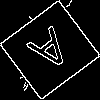A: (24, 25, 80, 83)
